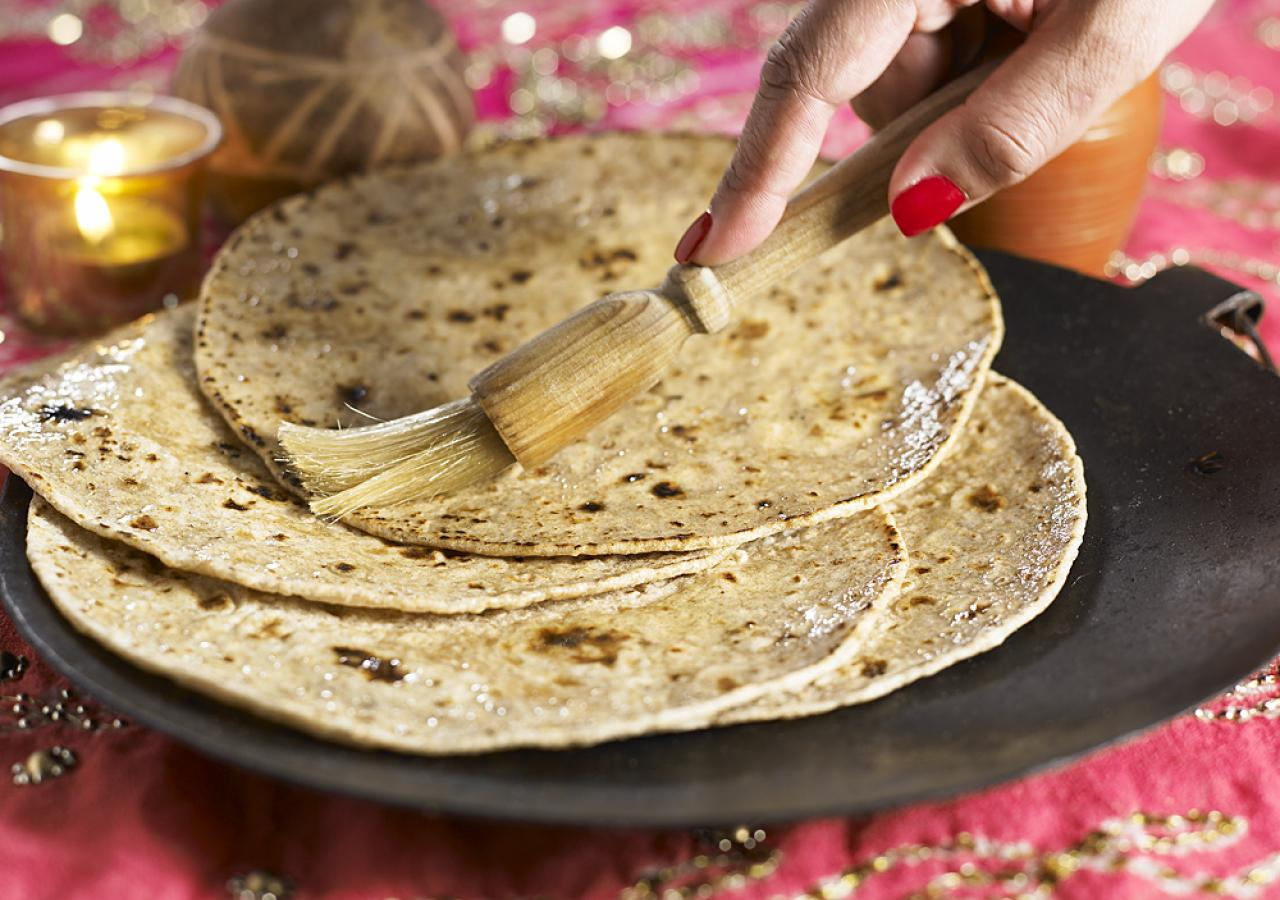chapati: (28, 498, 908, 754), (0, 305, 725, 612), (348, 218, 1002, 554), (195, 132, 732, 469), (712, 372, 1088, 725)
